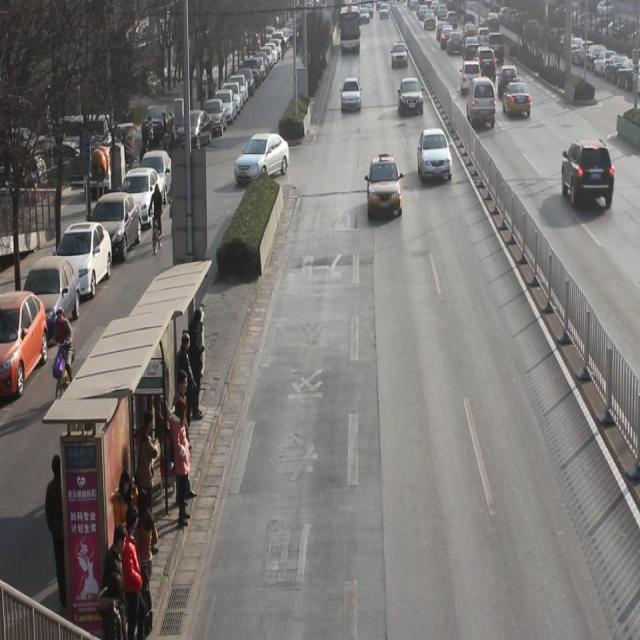car: (561, 138, 615, 209), (233, 130, 290, 181), (367, 150, 402, 219), (417, 127, 452, 182), (503, 76, 532, 117), (397, 76, 424, 115), (342, 77, 362, 114), (461, 59, 482, 92), (497, 63, 518, 95), (476, 46, 497, 76), (488, 31, 504, 63), (391, 40, 408, 69), (446, 31, 464, 54), (463, 36, 480, 58), (441, 24, 453, 49), (478, 42, 492, 63), (487, 9, 500, 31), (465, 18, 478, 36), (477, 24, 491, 40)
truck: (466, 76, 496, 128)
van: (338, 1, 360, 51)
